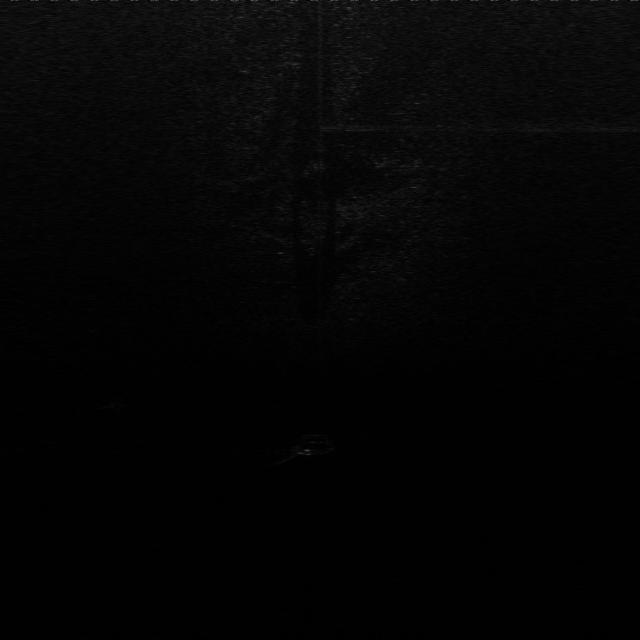tyre: (288, 429, 343, 460)
